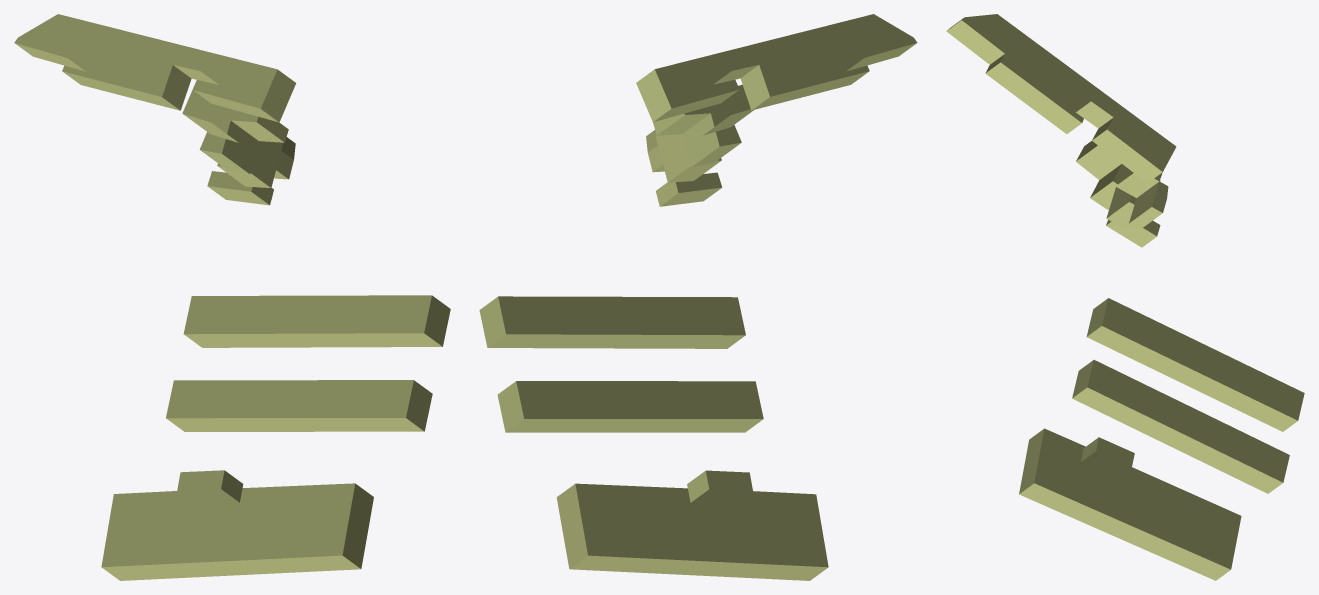
3 renders of one model, left to right at view 1: azimuth 30°, elevation 25°; view 2: azimuth 150°, elevation 25°; view 3: azimuth 330°, elevation 25°, orthographic. The views are drawn at different scales.
Visible parts, largest first — view 1: 0_1_0_0_1_3_1; view 2: 0_1_0_0_1_3_1; view 3: 0_1_0_0_1_3_1.
Part boxes in pixels (x1,y1,x2,y2): 0_1_0_0_1_3_1: [14, 14, 450, 580]; 0_1_0_0_1_3_1: [479, 14, 917, 580]; 0_1_0_0_1_3_1: [946, 14, 1304, 580].
Size of the model in its own units: 77.36 by 108 by 9.4.
